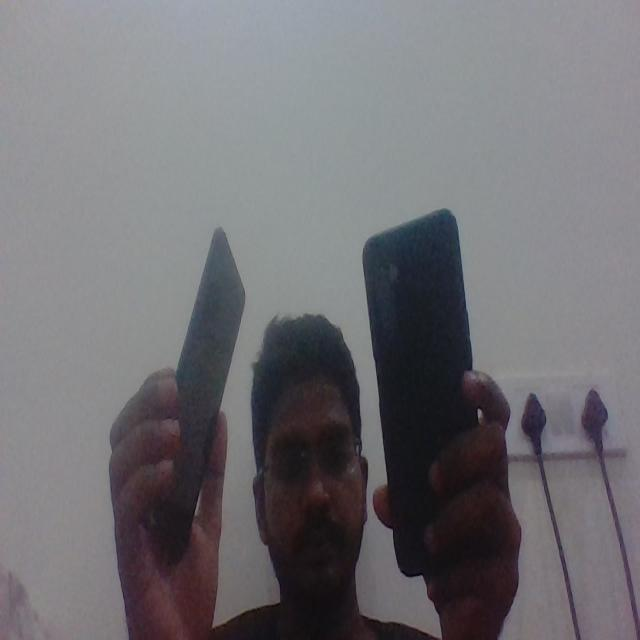Phone: (360, 207, 480, 584), (146, 224, 248, 561)
